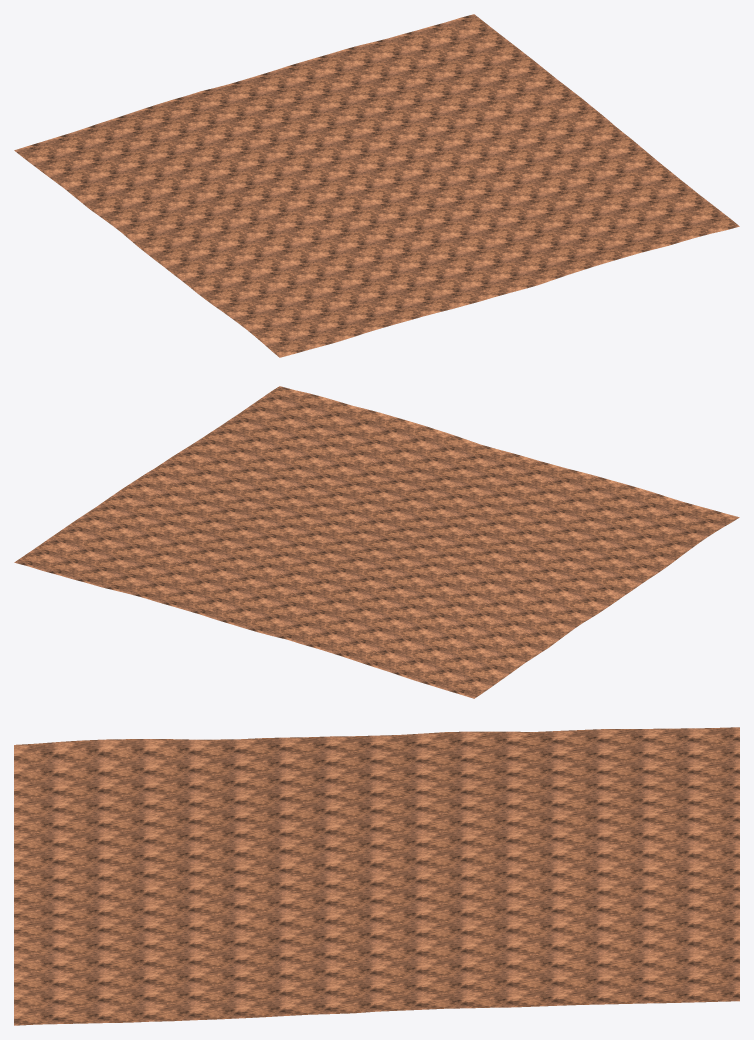
The model's file is terrain_02_10.dae.
3 renders of one model, top to bottom at view 1: azimuth 30°, elevation 25°; view 2: azimuth 150°, elevation 25°; view 3: azimuth 270°, elevation 25°, orthographic. The views are drawn at different scales.
Parts seen in each view (by area): view 1: terrain_02_10-node; view 2: terrain_02_10-node; view 3: terrain_02_10-node.
Boxes of the visible parts, box(x1,y1,x2,y2) form: terrain_02_10-node: box(14, 14, 739, 357); terrain_02_10-node: box(14, 386, 739, 698); terrain_02_10-node: box(14, 727, 739, 1025).
Bounding box in the file's own units: 128 × 128 × 9.83.
1 material, 1 textured.
